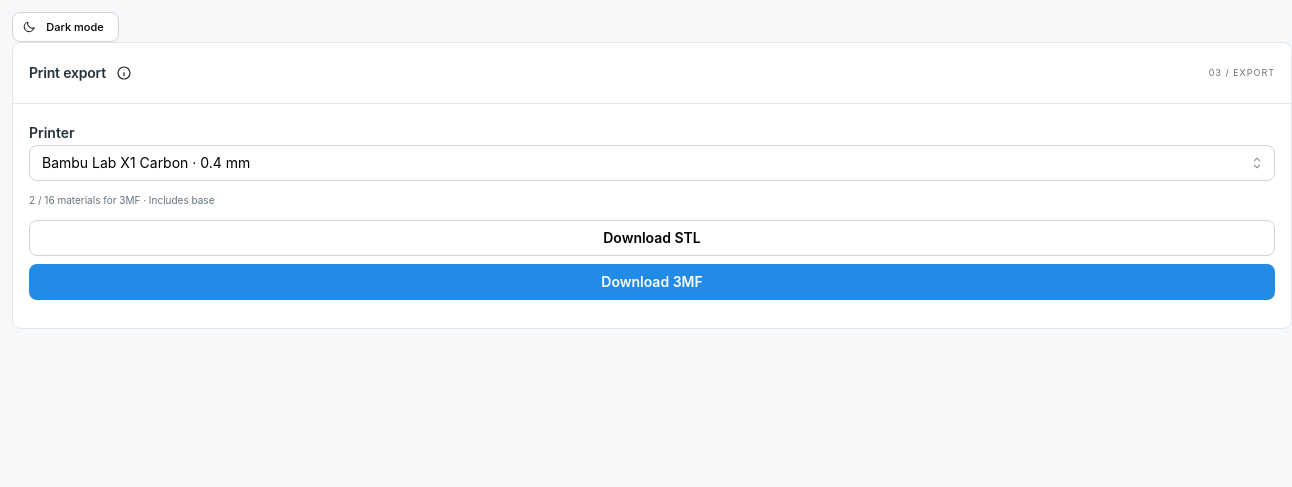
export panel › shows readable service errors, retries and clears errors
Click the button "Download 3MF" at coordinates (652, 282), box [29,264,1275,300]
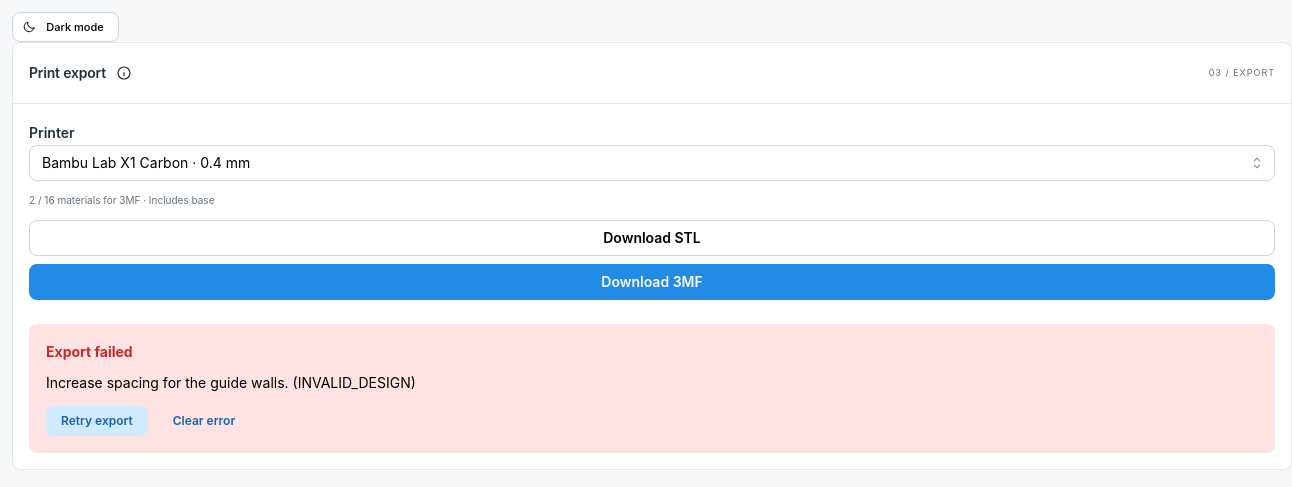
Expected: the message shows "Increase spacing for the guide walls. (INVALID_DESIGN)", [46,374,416,392]
Click the button "Retry export" at coordinates (97, 421), box [46,406,148,436]
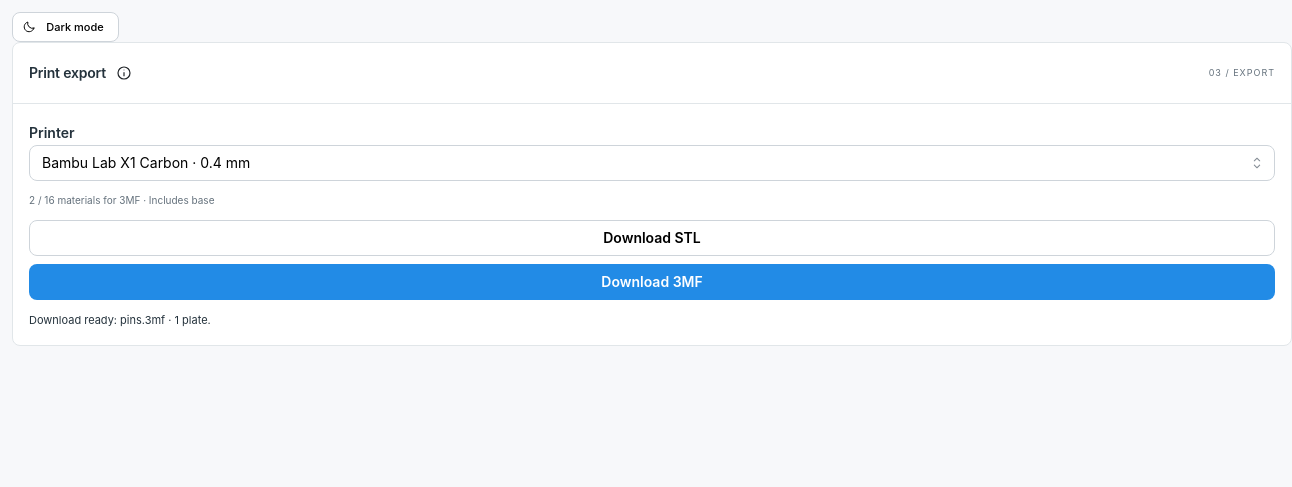
Click the button "Download STL" at coordinates (652, 238), box [29,220,1275,256]
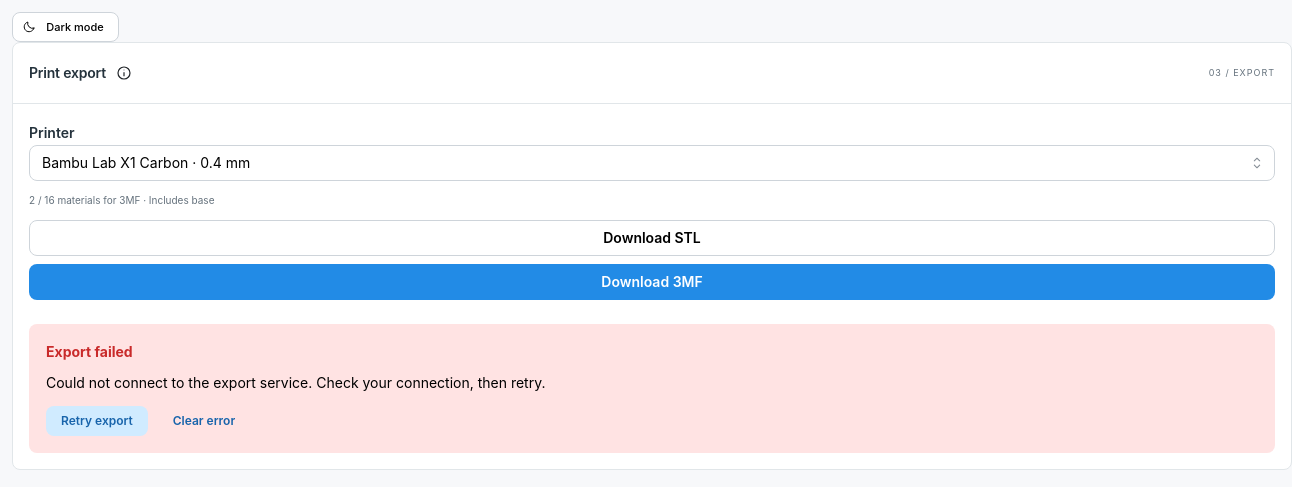
Expected: the message shows "Could not connect", [46,374,546,392]
Click the button "Clear error" at coordinates (204, 421), box [158,406,250,436]
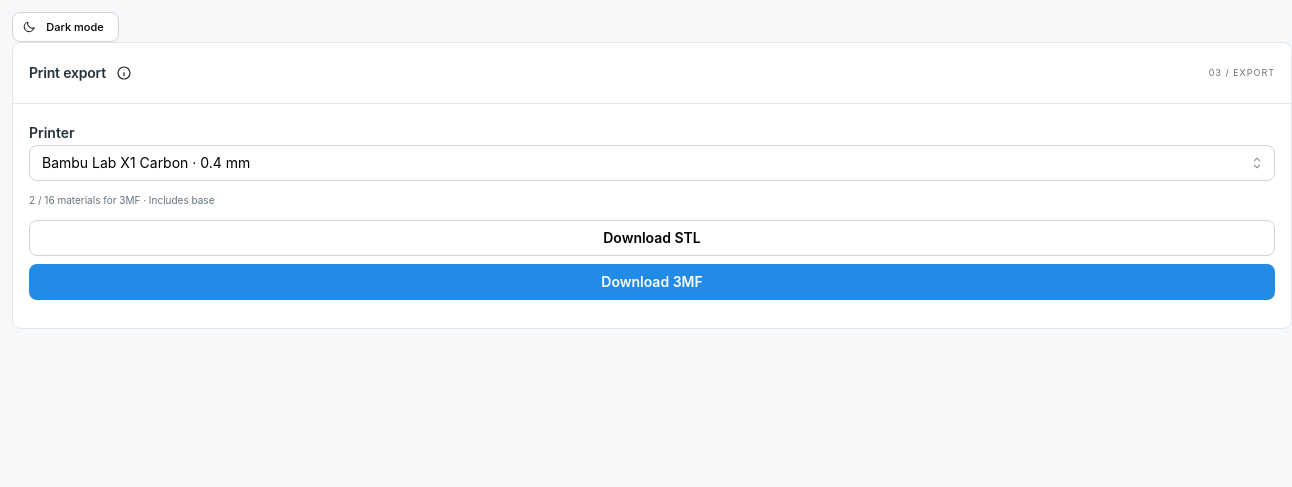
Expected: the message is gone
